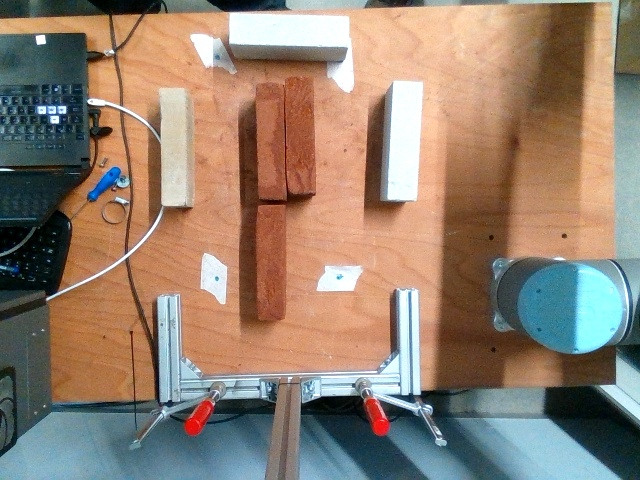brick-side: (387, 79, 421, 200), (228, 13, 345, 45), (255, 83, 284, 199), (287, 77, 314, 192), (257, 204, 282, 318), (160, 88, 184, 204)
